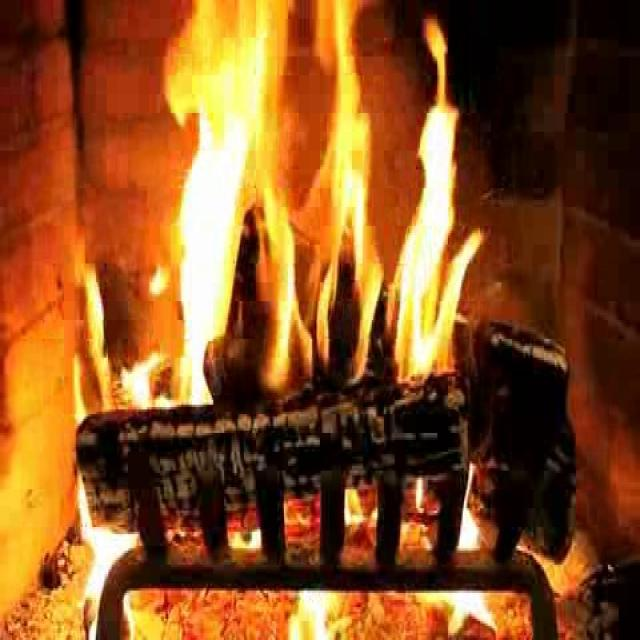fire: (162, 9, 476, 374)
